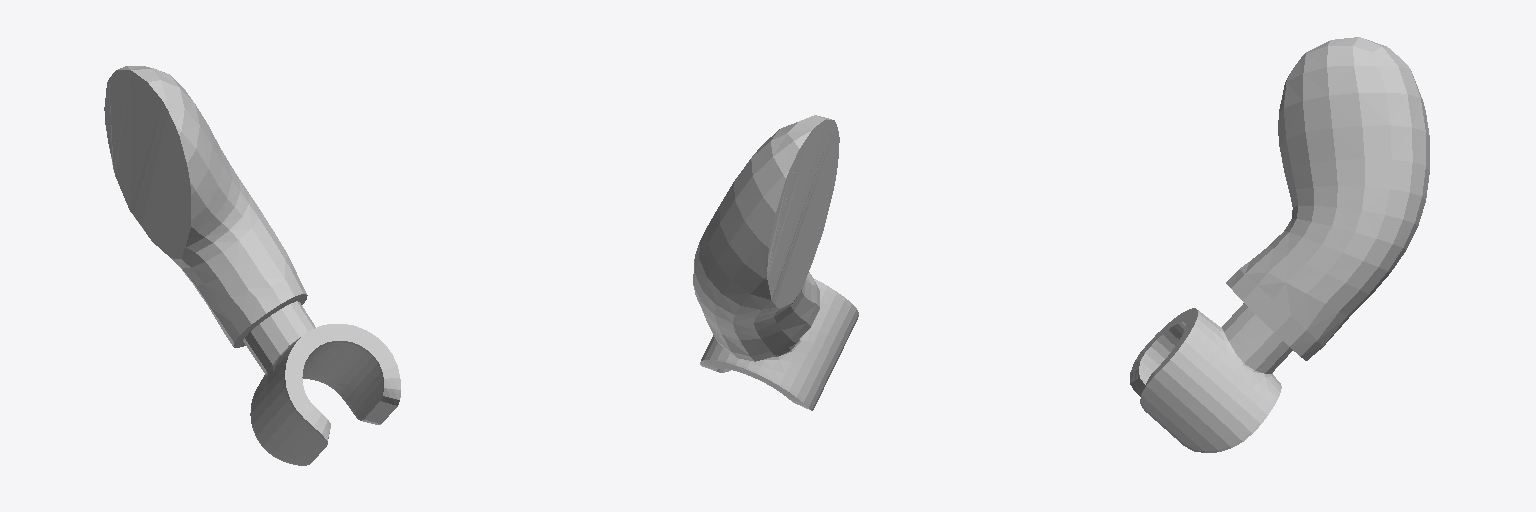
The model's file is brazoizq.obj.
3 renders of one model, left to right at view 1: azimuth 30°, elevation 25°; view 2: azimuth 150°, elevation 25°; view 3: azimuth 270°, elevation 25°, orthographic.
Visible parts, largest first — view 1: brazoIzqHomero; view 2: brazoIzqHomero; view 3: brazoIzqHomero.
Part boxes in pixels (bbox=[...]): brazoIzqHomero: bbox=[104, 66, 400, 465]; brazoIzqHomero: bbox=[693, 115, 858, 410]; brazoIzqHomero: bbox=[1130, 37, 1429, 452].
Size of the model in its own units: 1.23 by 2.44 by 1.87.